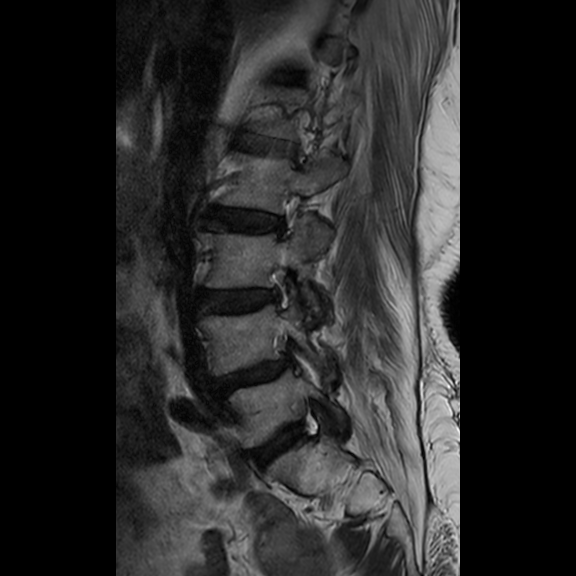RFS0: (265, 181, 305, 247)
RFS1: (256, 256, 298, 319)
